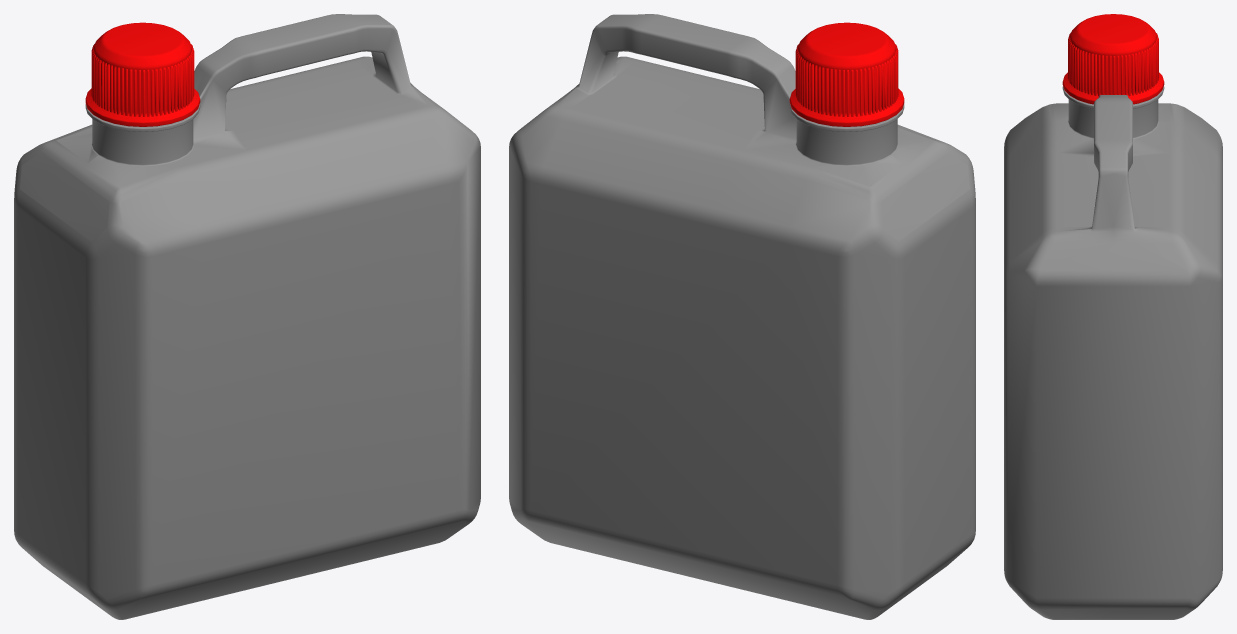
The model's file is canister.fbx.
3 views of the same model, side by side, from view 1: azimuth 30°, elevation 25°; view 2: azimuth 150°, elevation 25°; view 3: azimuth 270°, elevation 25° (orthographic). The views are drawn at different scales.
Visible parts, largest first — view 1: Box001; view 2: Box001; view 3: Box001.
Part boxes in pixels (box(x1,y1,x2,y2)): Box001: box(14, 14, 480, 619); Box001: box(509, 14, 975, 619); Box001: box(1004, 14, 1222, 619).
Bounding box in the file's own units: 608 × 815 × 337.
